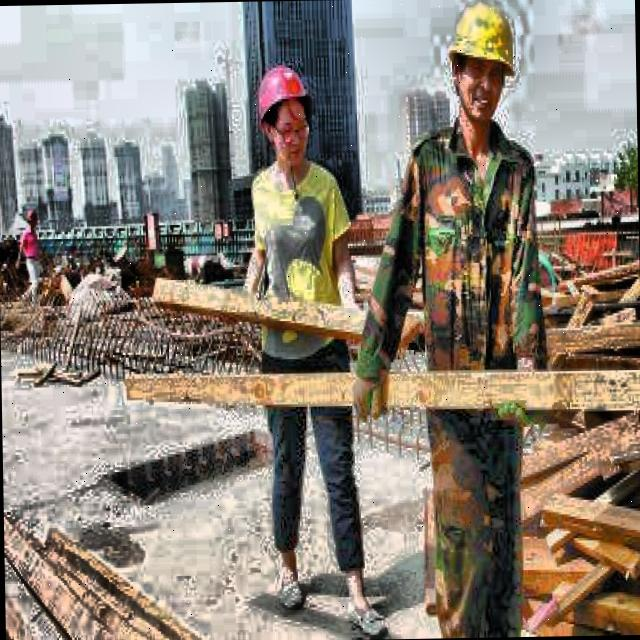helmet: (438, 6, 524, 131), (243, 54, 316, 182), (22, 201, 40, 232)
